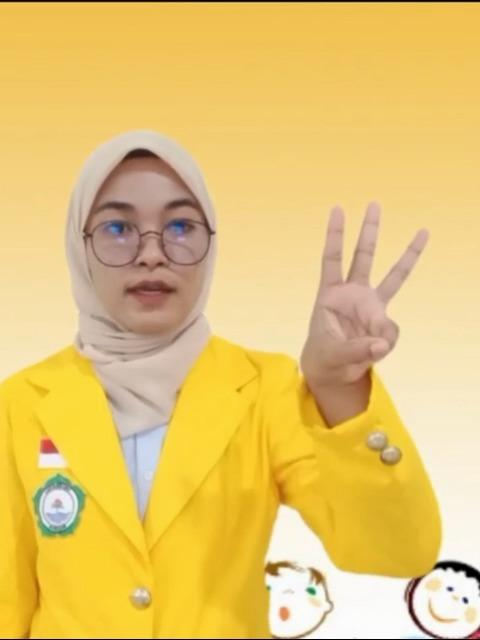W: (304, 201, 433, 393)
